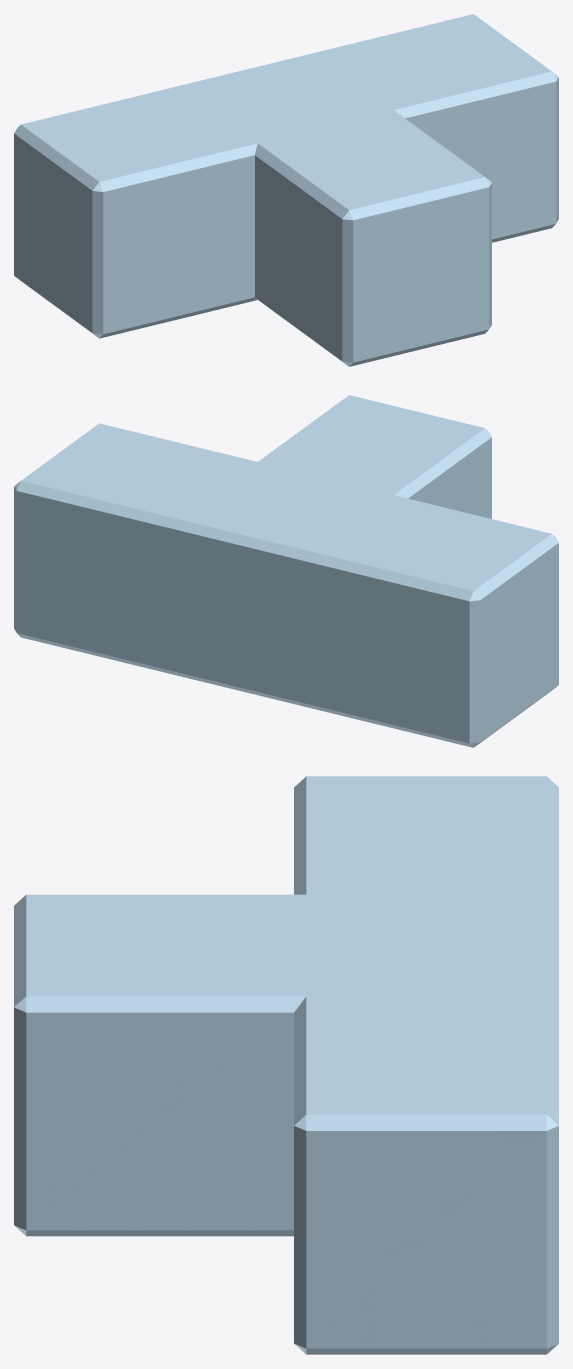
The model's file is R4B_Tee4_LOD1.fbx.
3 views of the same model, one above another, from view 1: azimuth 30°, elevation 25°; view 2: azimuth 150°, elevation 25°; view 3: azimuth 270°, elevation 25° (orthographic). The views are drawn at different scales.
Parts seen in each view (by area): view 1: R4B_Tee4_LOD1; view 2: R4B_Tee4_LOD1; view 3: R4B_Tee4_LOD1.
Boxes of the visible parts, x1,y1,x2,y2 form: R4B_Tee4_LOD1: [14, 14, 558, 366]; R4B_Tee4_LOD1: [14, 395, 558, 747]; R4B_Tee4_LOD1: [14, 776, 558, 1354].
Size of the model in its own units: 1.62 by 0.52 by 1.07.
